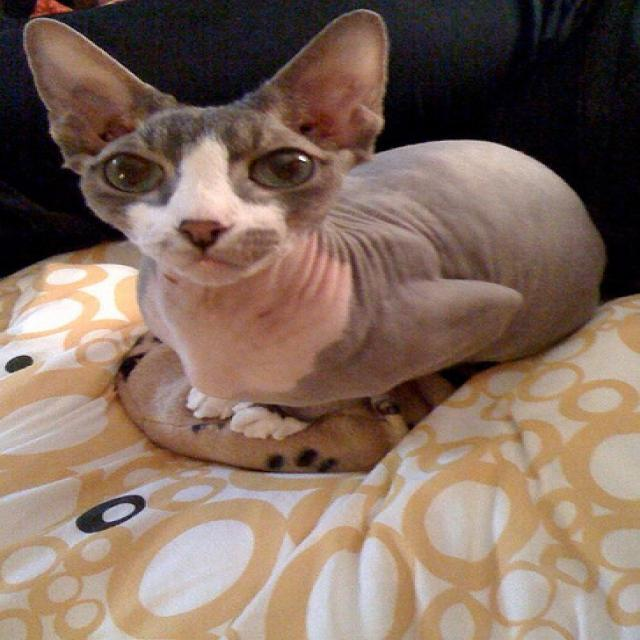Sphynx: (21, 7, 387, 285)
